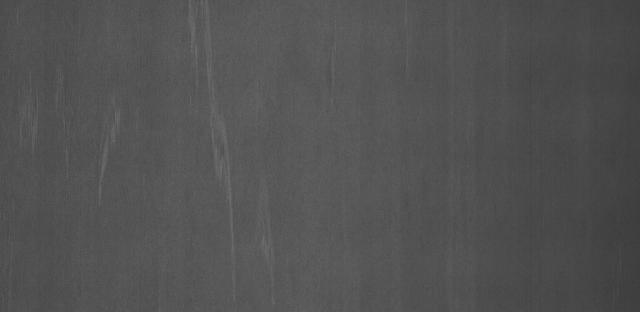silk_spot: (197, 84, 257, 226), (81, 90, 140, 192), (171, 9, 222, 77), (19, 67, 59, 147)
